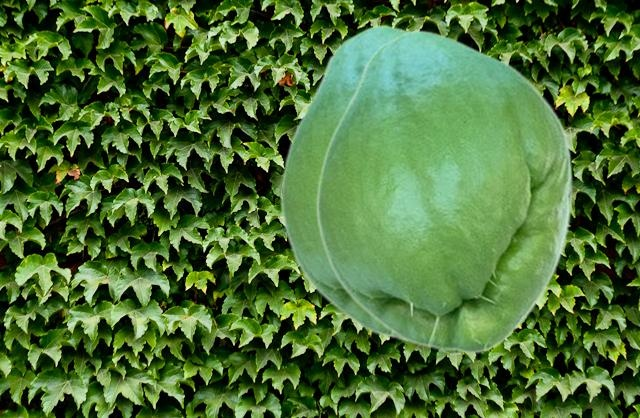sayote: (315, 30, 572, 354), (279, 25, 412, 343)
